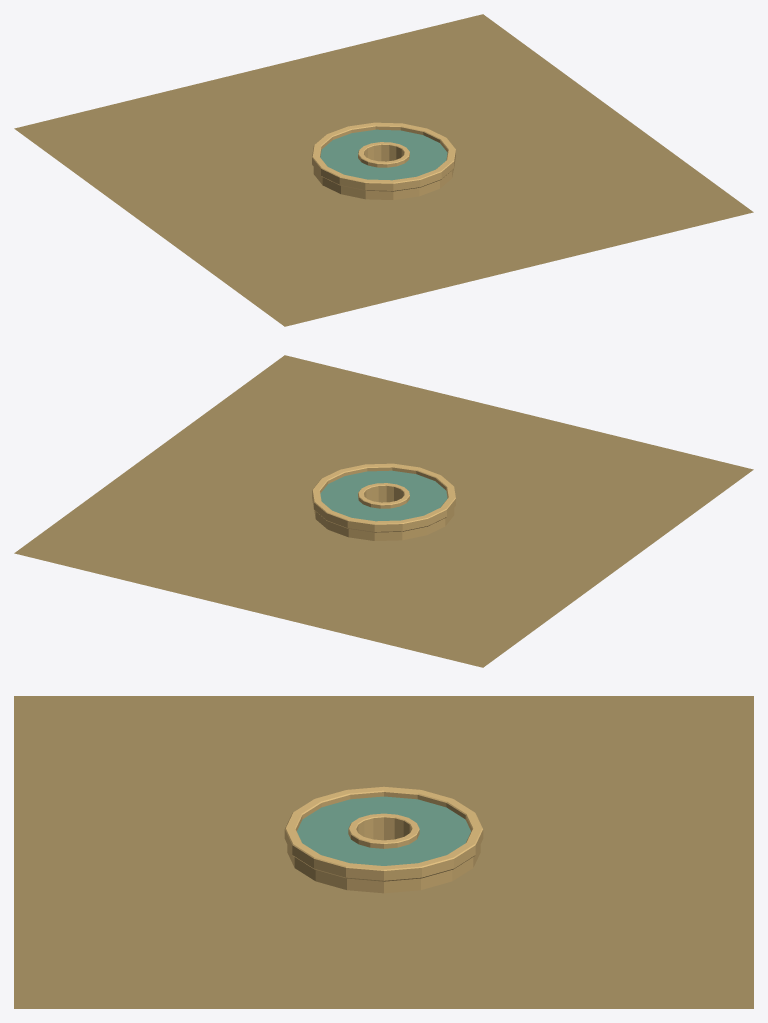
The model's file is Tile 46_Combined.fbx.
3 renders of one model, top to bottom at view 1: azimuth 30°, elevation 25°; view 2: azimuth 150°, elevation 25°; view 3: azimuth 270°, elevation 25°, orthographic. The views are drawn at different scales.
Parts seen in each view (by area): view 1: MeshBaker_mesh_mesh; view 2: MeshBaker_mesh_mesh; view 3: MeshBaker_mesh_mesh.
Boxes of the visible parts, x1=… form: MeshBaker_mesh_mesh: x1=14, y1=14, x2=753, y2=326; MeshBaker_mesh_mesh: x1=14, y1=355, x2=753, y2=667; MeshBaker_mesh_mesh: x1=14, y1=696, x2=753, y2=1008.
Bounding box in the file's own units: 3000 × 109 × 3000.
